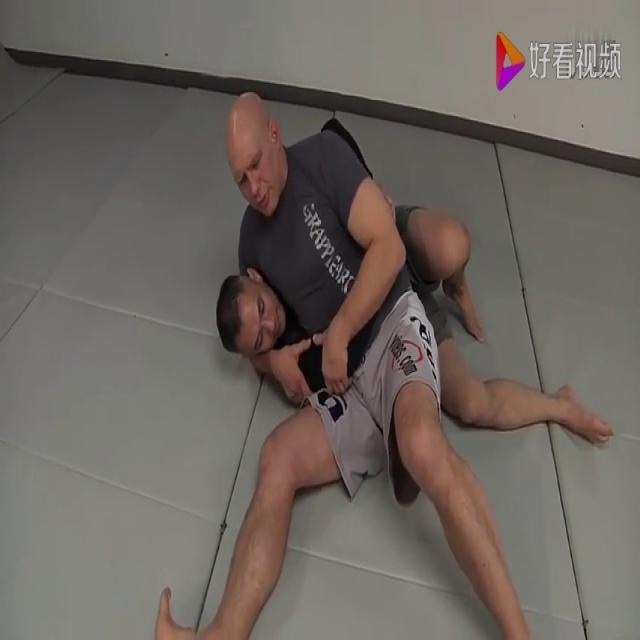fight: (128, 77, 636, 639)
